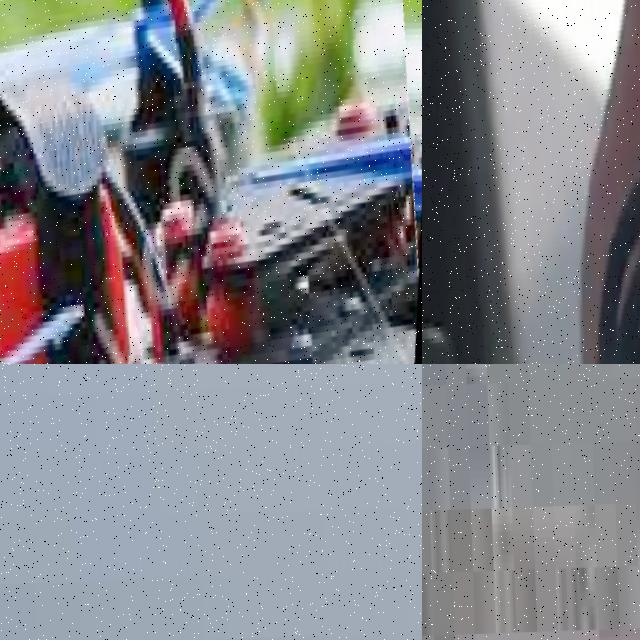drone: (0, 0, 422, 364), (422, 0, 640, 364)
